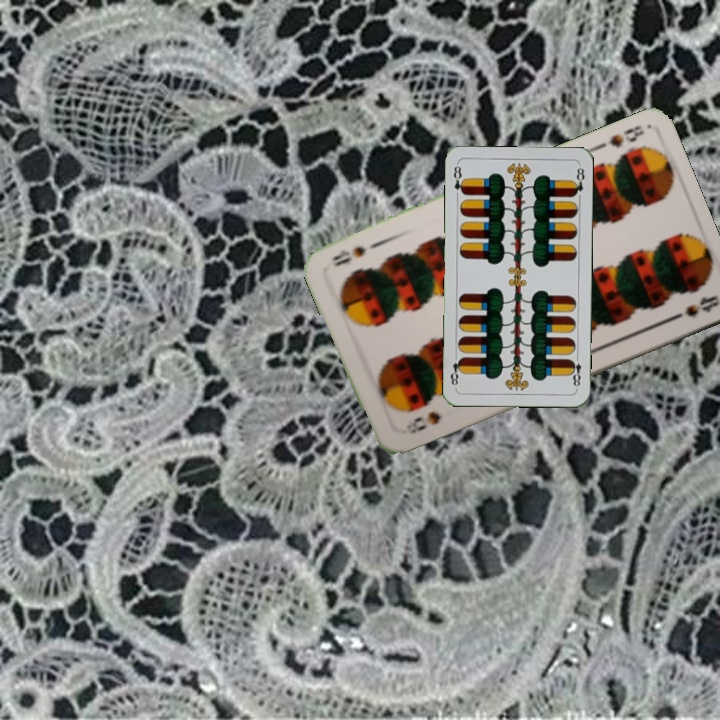E8: (567, 351, 584, 391), (449, 161, 467, 197)
S8: (604, 121, 647, 151), (402, 407, 444, 437)
